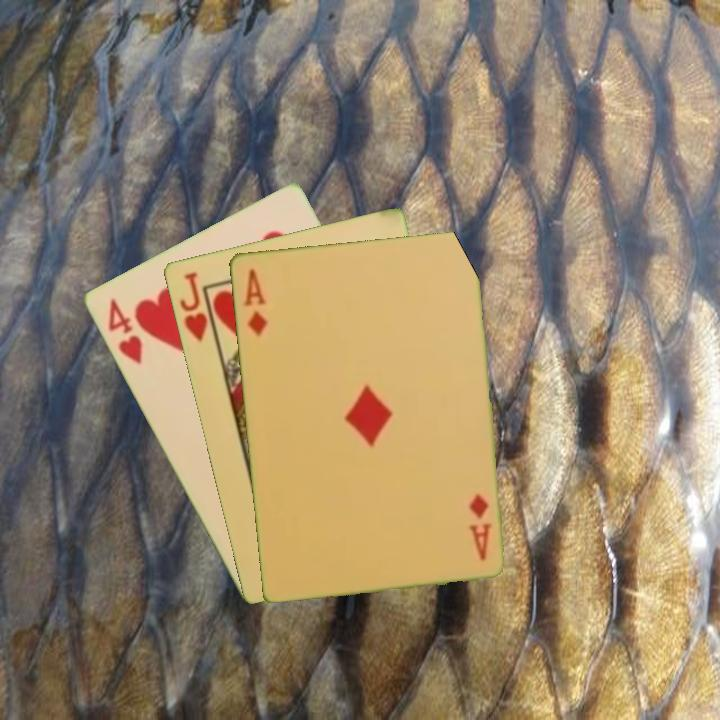4h: (104, 294, 145, 368)
Ad: (240, 264, 270, 338), (465, 490, 494, 564)
Jh: (175, 268, 220, 347)
